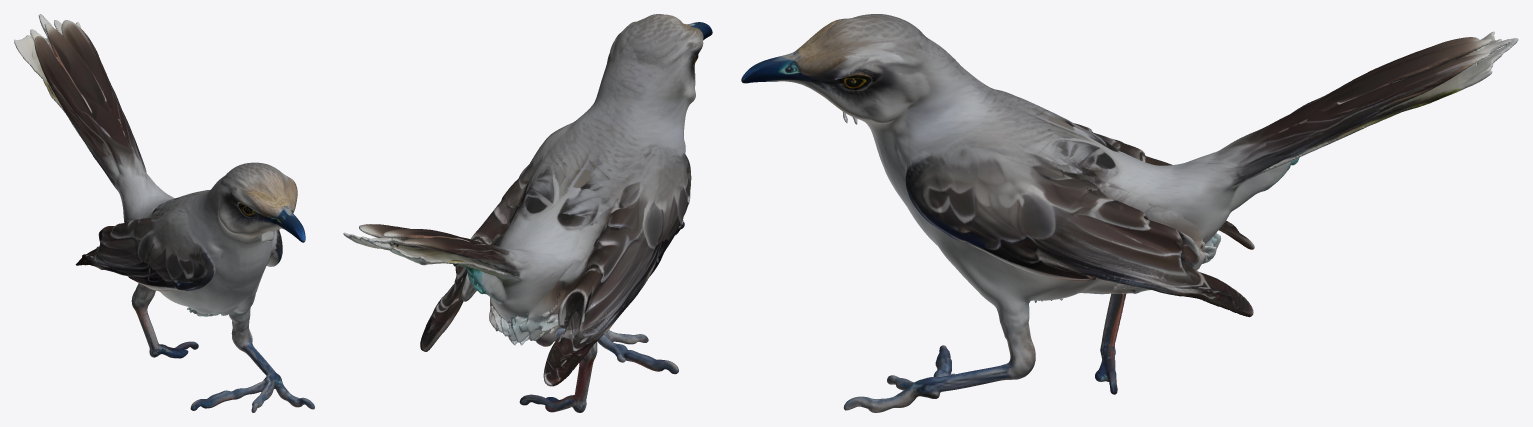
Rendered from Paraulata Llanera.glb.
The picture shows the model from 3 angles, left to right: view 1: azimuth 30°, elevation 25°; view 2: azimuth 150°, elevation 25°; view 3: azimuth 270°, elevation 25°; orthographic projection. The views are drawn at different scales.
Visible parts, largest first — view 1: tripo_node_4d15603c-e309-4ee1-9395-83fd92fb1332; view 2: tripo_node_4d15603c-e309-4ee1-9395-83fd92fb1332; view 3: tripo_node_4d15603c-e309-4ee1-9395-83fd92fb1332.
Boxes of the visible parts, x1,y1,x2,y2 form: tripo_node_4d15603c-e309-4ee1-9395-83fd92fb1332: [14, 14, 314, 412]; tripo_node_4d15603c-e309-4ee1-9395-83fd92fb1332: [343, 14, 712, 412]; tripo_node_4d15603c-e309-4ee1-9395-83fd92fb1332: [741, 14, 1518, 412].
Bounding box in the file's own units: 0.2697 × 0.5199 × 1.
Materials: 1 (1 with a texture image).
